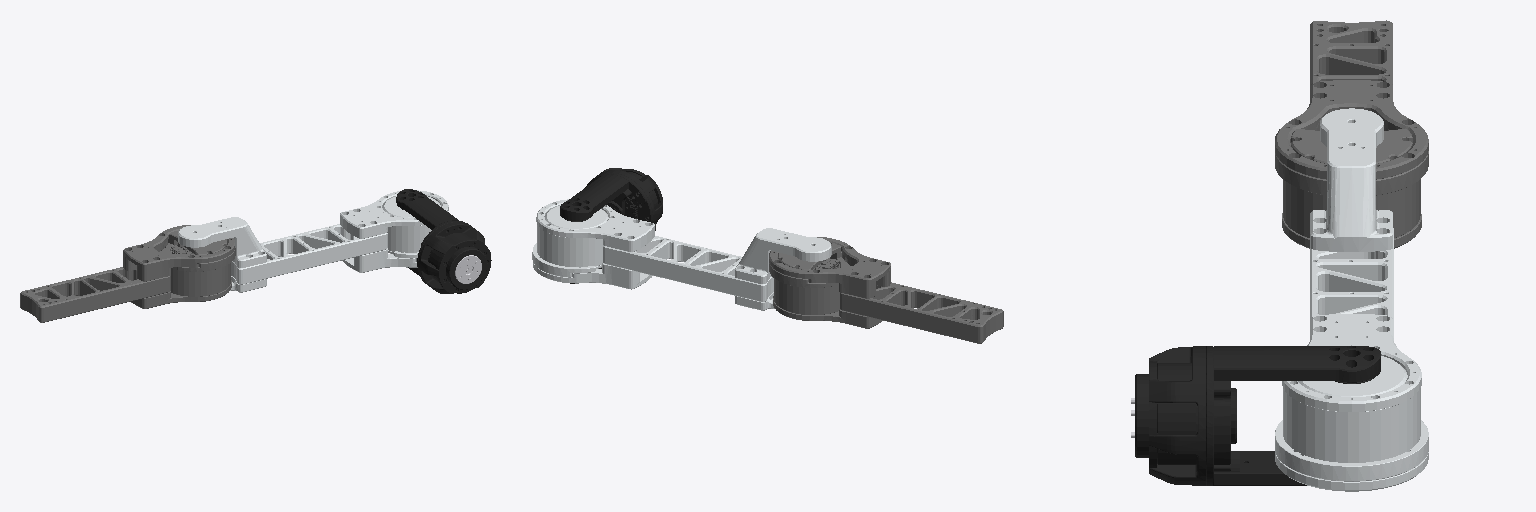
The robot description file, URDF, robot "robot":
<?xml version="1.0" encoding="utf-8"?>
<!-- Mentee Robotics LTD -->
<robot name="robot">
  <link name="right_leg_ee">
    <inertial>
      <origin xyz="0.195767 -0.000165339 0.00397018" rpy="0.0 0.0 0.0" />
      <mass value="1.823" />
      <inertia ixx="0.00176052" ixy="-3.13661e-05" ixz="-0.000333943" iyy="0.0113229" iyz="-1.44116e-06" izz="0.0118153" />
    </inertial>
    <visual>
      <origin xyz="0.0 0.0 0.0" rpy="0.0 0.0 0.0" />
      <geometry>
        <mesh filename="../meshes/right_leg_ee.STL" />
      </geometry>
      <material name="right_leg_ee_material">
        <color rgba="0.5 0.5 0.5 1.0" />
      </material>
    </visual>
  </link>
  <joint name="right_knee" type="revolute">
    <origin xyz="0.241 0.0 0.0" rpy="3.1416 0.0 0.0" />
    <parent link="right_leg_ee" />
    <child link="right_shin" />
    <axis xyz="0.0 0.0 1.0" />
    <limit lower="-2.1" upper="2.1" effort="80.0" velocity="5.0" />
  </joint>
  <link name="right_shin">
    <inertial>
      <origin xyz="0.247066 7.76868e-05 0.0154983" rpy="0.0 0.0 0.0" />
      <mass value="2.352" />
      <inertia ixx="0.00252662" ixy="1.30773e-05" ixz="-0.00215985" iyy="0.0361054" iyz="-2.11041e-07" izz="0.0361516" />
    </inertial>
    <visual>
      <origin xyz="0.0 0.0 0.0" rpy="0.0 0.0 0.0" />
      <geometry>
        <mesh filename="../meshes/right_shin.STL" />
      </geometry>
      <material name="right_shin_material">
        <color rgba="0.9 0.92 0.93 1.0" />
      </material>
    </visual>
    <collision>
      <origin xyz="0.24 0.0 0.02" rpy="0.0 1.5708 0.0" />
      <geometry>
        <cylinder radius="0.04" length="0.25" />
      </geometry>
    </collision>
  </link>
  <joint name="right_ankle_pitch" type="revolute">
    <origin xyz="0.34 0.0 0.02025" rpy="-3.1416 0.0 0.0" />
    <parent link="right_shin" />
    <child link="right_ankle_pitch" />
    <axis xyz="0.0 0.0 1.0" />
    <limit lower="-0.79" upper="1.57" effort="80.0" velocity="5.0" />
  </joint>
  <link name="right_ankle_pitch">
    <inertial>
      <origin xyz="0.000597967 -0.0934241 0.000974733" rpy="0.0 0.0 0.0" />
      <mass value="1.274" />
      <inertia ixx="0.00387728" ixy="-1.85423e-06" ixz="7.7128e-07" iyy="0.00163122" iyz="-0.000126122" izz="0.00333208" />
    </inertial>
    <visual>
      <origin xyz="0.0 0.0 0.0" rpy="0.0 0.0 0.0" />
      <geometry>
        <mesh filename="../meshes/right_ankle_pitch.STL" />
      </geometry>
      <material name="right_ankle_pitch_material">
        <color rgba="0.2 0.2 0.2 1.0" />
      </material>
    </visual>
    <collision>
      <origin xyz="0.0 -0.13 0.0" rpy="0.0 0.0 0.0" />
      <geometry>
        <sphere radius="0.04" />
      </geometry>
    </collision>
  </link>
  <joint name="right_ankle_roll" type="revolute">
    <origin xyz="0.0 0.0 0.0" rpy="-1.5708 0.0 3.1416" />
    <parent link="right_ankle_pitch" />
    <child link="right_ankle_roll" />
    <axis xyz="0.0 0.0 1.0" />
    <limit lower="-0.55" upper="0.55" effort="25.0" velocity="10.0" />
  </joint>
  <link name="right_ankle_roll">
    <inertial>
      <origin xyz="-8.88178e-16 -6.05418e-15 0.137718" rpy="0.0 0.0 0.0" />
      <mass value="0.175" />
      <inertia ixx="3.92381e-05" ixy="0.0" ixz="0.0" iyy="3.92381e-05" iyz="0.0" izz="3.88778e-05" />
    </inertial>
    <visual>
      <origin xyz="0.0 0.0 0.0" rpy="0.0 0.0 0.0" />
      <geometry>
        <mesh filename="../meshes/right_ankle_roll.STL" />
      </geometry>
      <material name="right_ankle_roll_material">
        <color rgba="0.87 0.87 0.89 1.0" />
      </material>
    </visual>
  </link>
  <joint name="right_foot_ee" type="fixed">
    <origin xyz="0.0 0.0 0.15485" rpy="0.0 0.0 3.1416" />
    <parent link="right_ankle_roll" />
    <child link="right_foot_ee_link" />
  </joint>
  <link name="right_foot_ee_link" />
</robot>

--- What the picture shows (computed from the rendered views, not written in the file) ---
The picture shows the robot from 3 angles, left to right: view 1: azimuth 30°, elevation 25°; view 2: azimuth 150°, elevation 25°; view 3: azimuth 270°, elevation 25°; orthographic projection.
Model robot with 5 links and 4 joints (3 revolute, 1 fixed), rooted at right_leg_ee, posed every joint at zero.
Links seen in each view (by area): view 1: right_shin, right_leg_ee, right_ankle_pitch, right_ankle_roll; view 2: right_shin, right_leg_ee, right_ankle_pitch; view 3: right_shin, right_ankle_pitch, right_leg_ee.
Boxes of the visible links, bbox=[...] form: right_shin: bbox=[178, 190, 448, 292]; right_leg_ee: bbox=[20, 225, 235, 322]; right_ankle_pitch: bbox=[396, 189, 491, 293]; right_ankle_roll: bbox=[455, 255, 481, 283]; right_shin: bbox=[532, 199, 831, 310]; right_leg_ee: bbox=[769, 237, 1003, 343]; right_ankle_pitch: bbox=[560, 168, 662, 283]; right_shin: bbox=[1275, 108, 1428, 491]; right_ankle_pitch: bbox=[1135, 346, 1380, 485]; right_leg_ee: bbox=[1275, 20, 1428, 248].
Bounding box of the posed robot: 0.6538 × 0.2123 × 0.1236 m (x, y, z).
4 mesh visuals loaded from 4 distinct referenced files (4 binary STL).